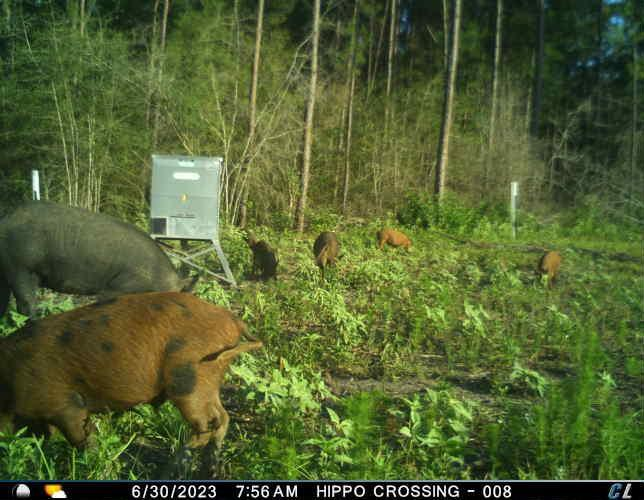Hog: (0, 289, 266, 452), (0, 199, 201, 317), (240, 229, 286, 277), (313, 227, 346, 273), (379, 225, 412, 254), (537, 247, 561, 284)
